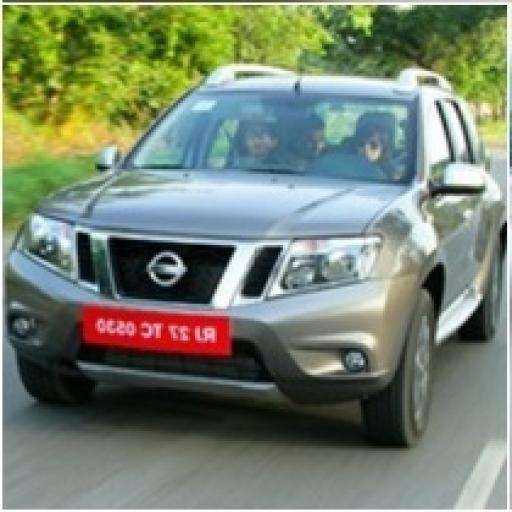License: (81, 299, 234, 353)
